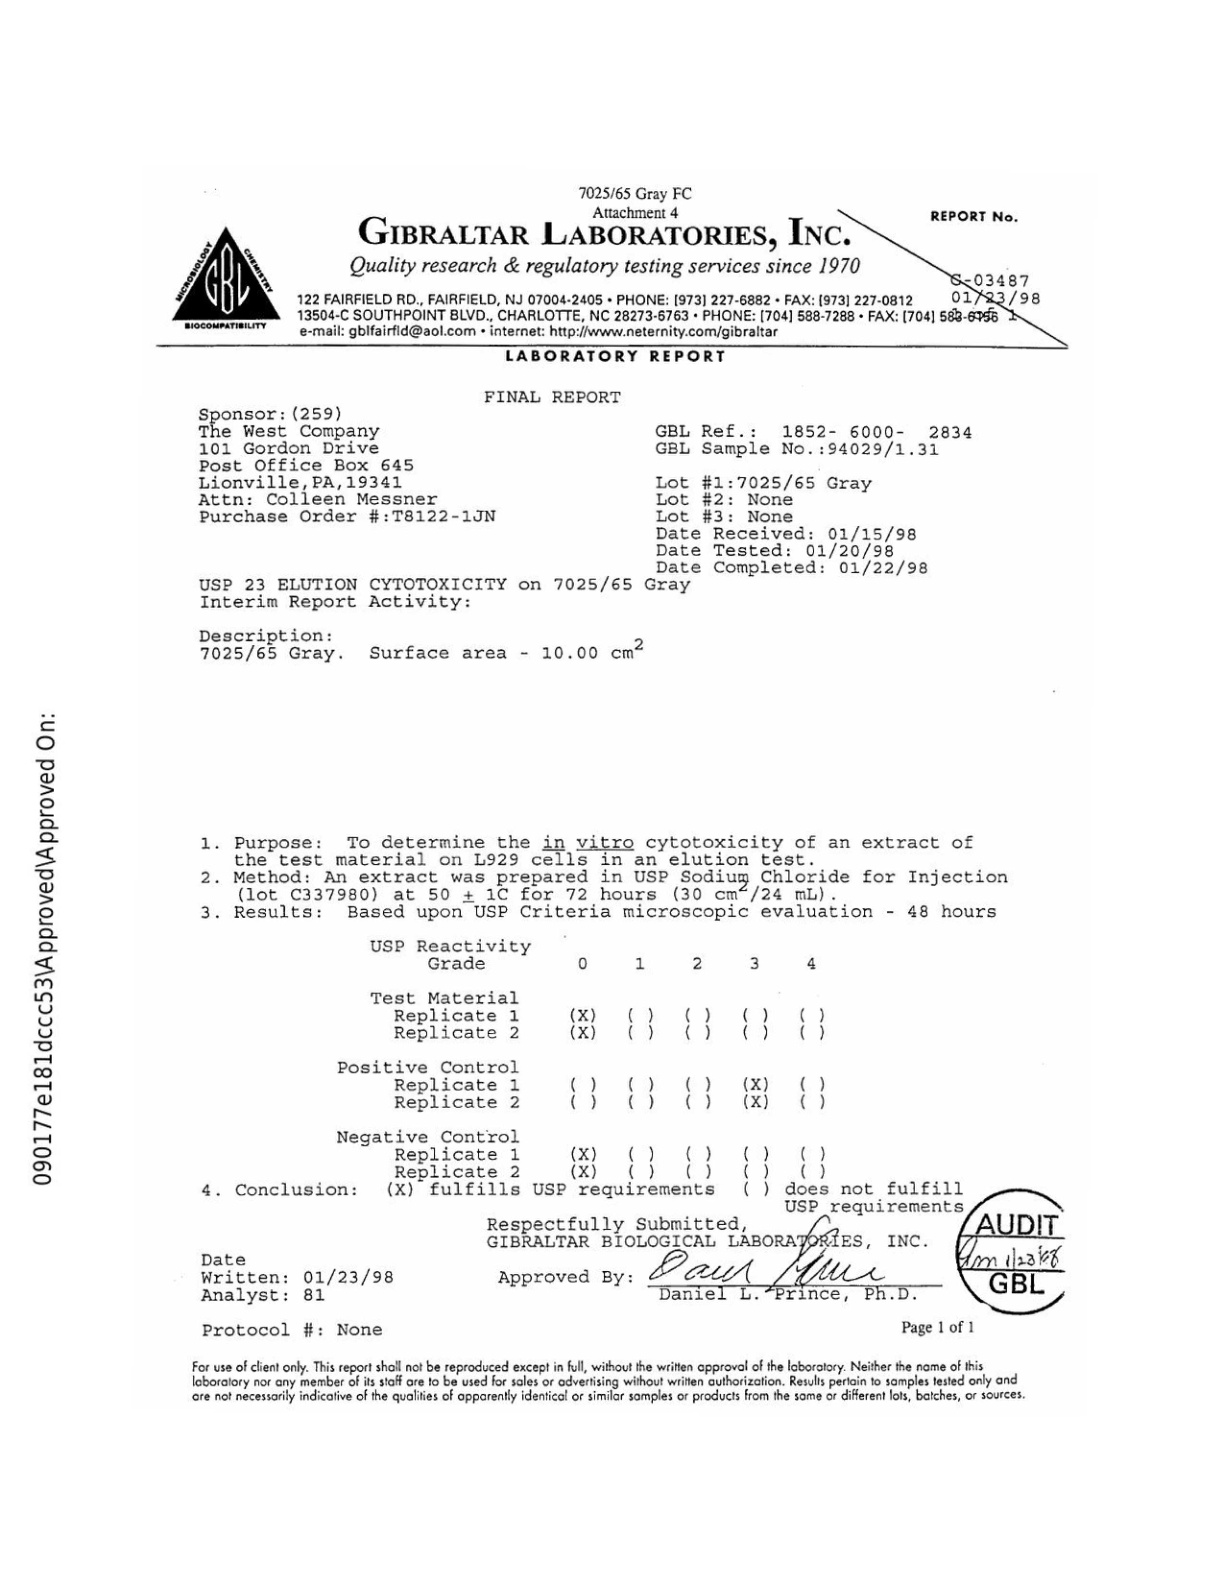nolines: (190, 407, 977, 577), (329, 935, 832, 1184)
